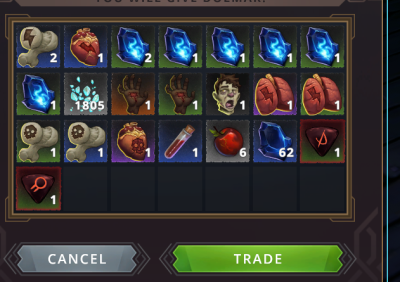blood: (158, 120, 202, 162)
ethereal dust: (63, 71, 108, 115)
